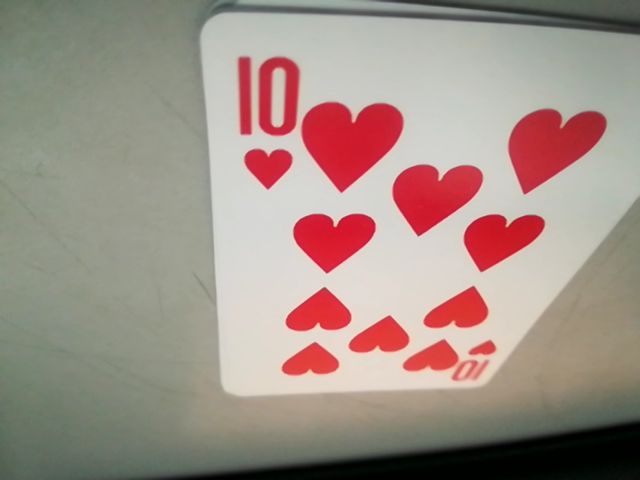hx 10: (237, 56, 302, 193)
